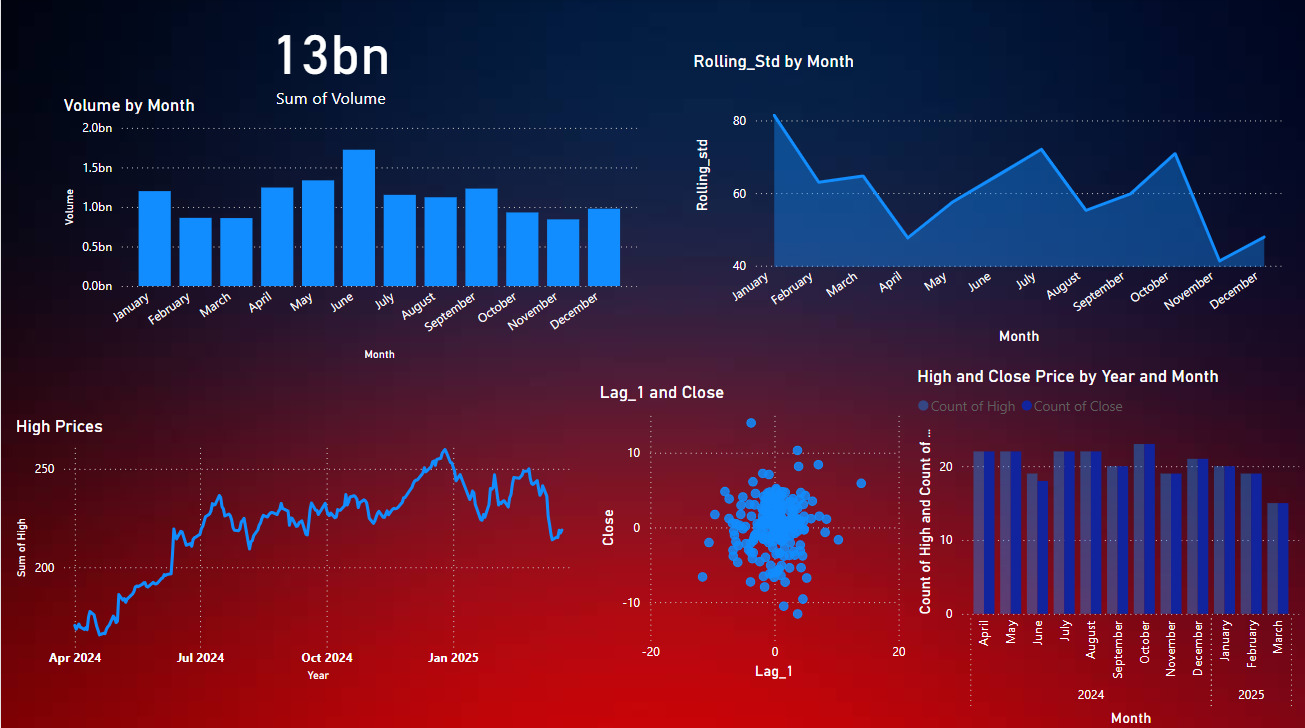

The page's visual inventory and layout, read from the dashboard file:
{"tool":"powerbi","page":{"name":"Page 1","canvas":[1280,720],"ordinal":0},"visuals":[{"type":"lineChart","title":" High Prices","fields":{"Category":["apple.Date.Variation.Date Hierarchy.Year","apple.Date.Variation.Date Hierarchy.Quarter","apple.Date.Variation.Date Hierarchy.Month","apple.Date.Variation.Date Hierarchy.Day"],"Y":["Sum(apple.High)"]},"box":[9.8,409.8,573,266.3],"z":0},{"type":"areaChart","title":" Rolling_Std by Month","fields":{"Category":["apple.Date.Variation.Date Hierarchy.Month","apple.Date.Variation.Date Hierarchy.Day"],"Y":["Sum(apple.Rolling_Std)"]},"box":[674.9,51.5,587.7,293.3],"z":1000},{"type":"clusteredColumnChart","title":"Volume by Month","fields":{"Category":["apple.Date.Variation.Date Hierarchy.Month","apple.Date.Variation.Date Hierarchy.Day"],"Y":["Sum(apple.Volume)"]},"box":[56.4,94.5,573,266.3],"z":2000},{"type":"scatterChart","fields":{"X":["apple.Lag_1"],"Y":["apple.Close"]},"box":[582.8,376.7,310.4,296.9],"z":3000},{"type":"clusteredColumnChart","title":" High and Close Price by Year and Month","fields":{"Y":["Count(apple.High)","Count(apple.Close)"],"Category":["apple.Date.Variation.Date Hierarchy.Year","apple.Date.Variation.Date Hierarchy.Month"]},"box":[894.5,360.7,385.3,359.5],"z":4000},{"type":"card","fields":{"Values":["Sum(apple.Volume)"]},"box":[227,0,193.9,119],"z":4001}]}

Visuals, with their boxes in screenshot pixels (x1, y1, x2, y2), scaled from the page's 1280x720 canvas onto the 1305x728 screenshot:
" High Prices" lineChart: l=10, t=414, r=594, b=684
" Rolling_Std by Month" areaChart: l=688, t=52, r=1287, b=349
"Volume by Month" clusteredColumnChart: l=58, t=96, r=642, b=365
scatterChart - apple.Lag_1 x apple.Close: l=594, t=381, r=911, b=681
" High and Close Price by Year and Month" clusteredColumnChart: l=912, t=365, r=1304, b=727
card - Sum(apple.Volume): l=231, t=0, r=429, b=120
